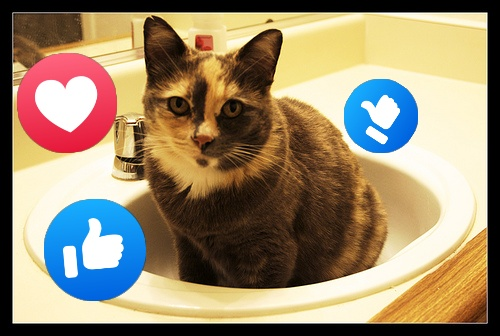like: (44, 199, 146, 301), (344, 79, 418, 153)
love: (17, 53, 117, 153)
